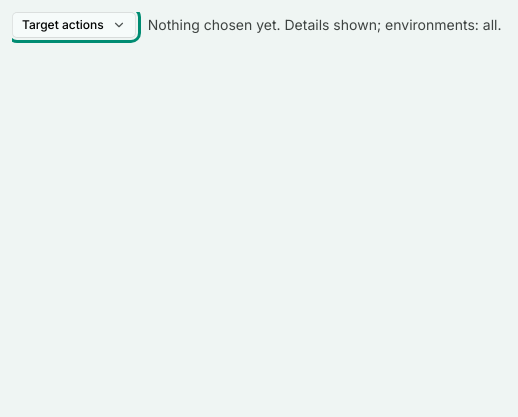
Test case: menus › opens a dropdown menu from the keyboard and runs the chosen item
Step 1. Press Enter
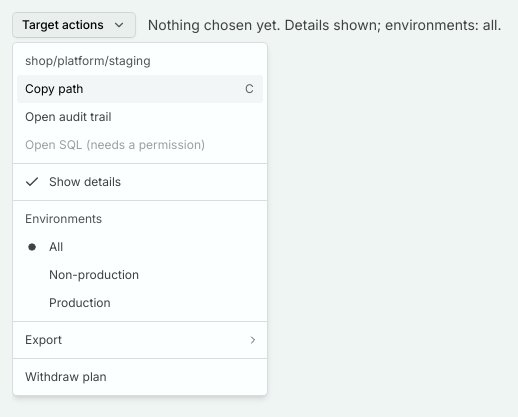
Step 2. Click the menu item "Copy path C" → (140, 89), box x1=17 y1=75 x2=263 y2=103
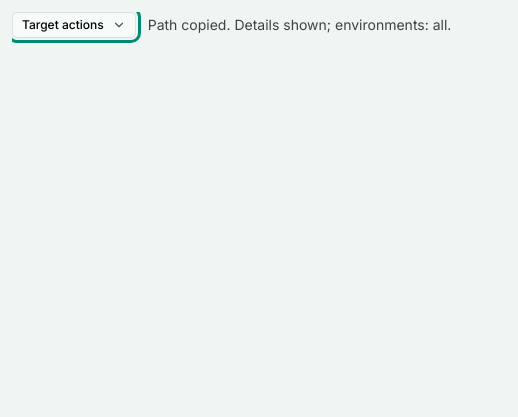
Now the menu is gone
Now the message shows "Path copied.", box x1=148 y1=16 x2=230 y2=33
